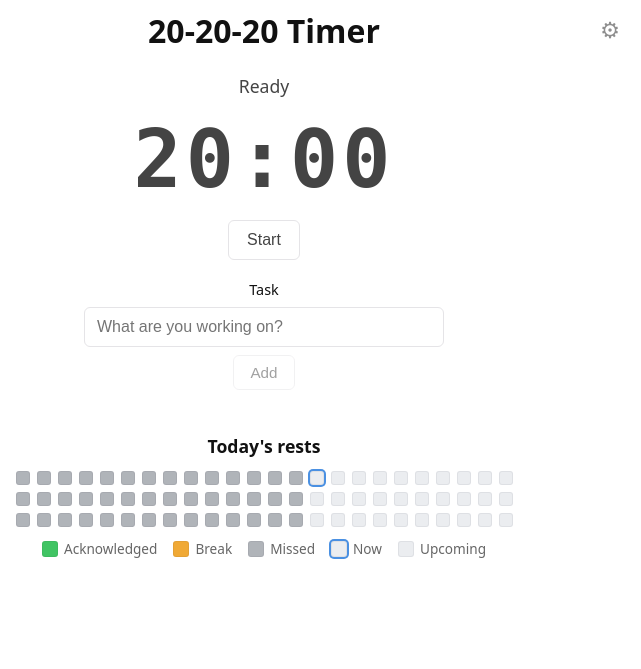
20-20-20 Timer › loads saved volume from localStorage
Click the button named "settings" at [610, 31], box x1=596 y1=16 x2=624 y2=46
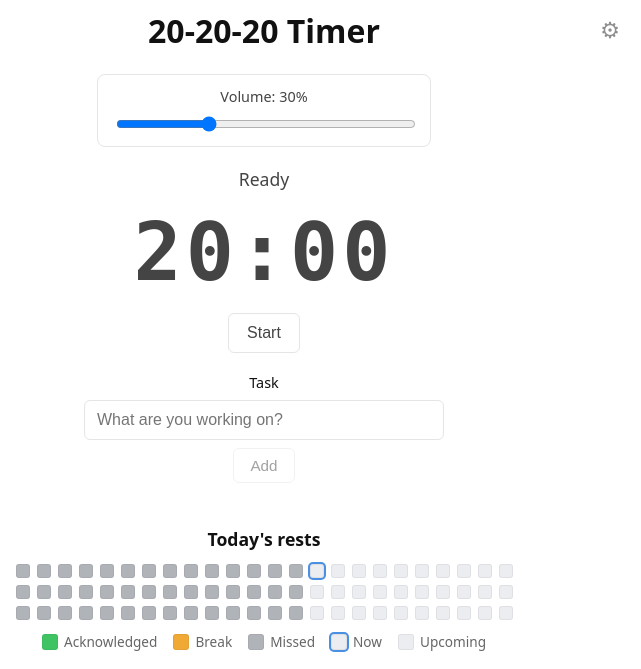
Check: the text "Volume: 30%" is shown, box x1=114 y1=87 x2=414 y2=134
